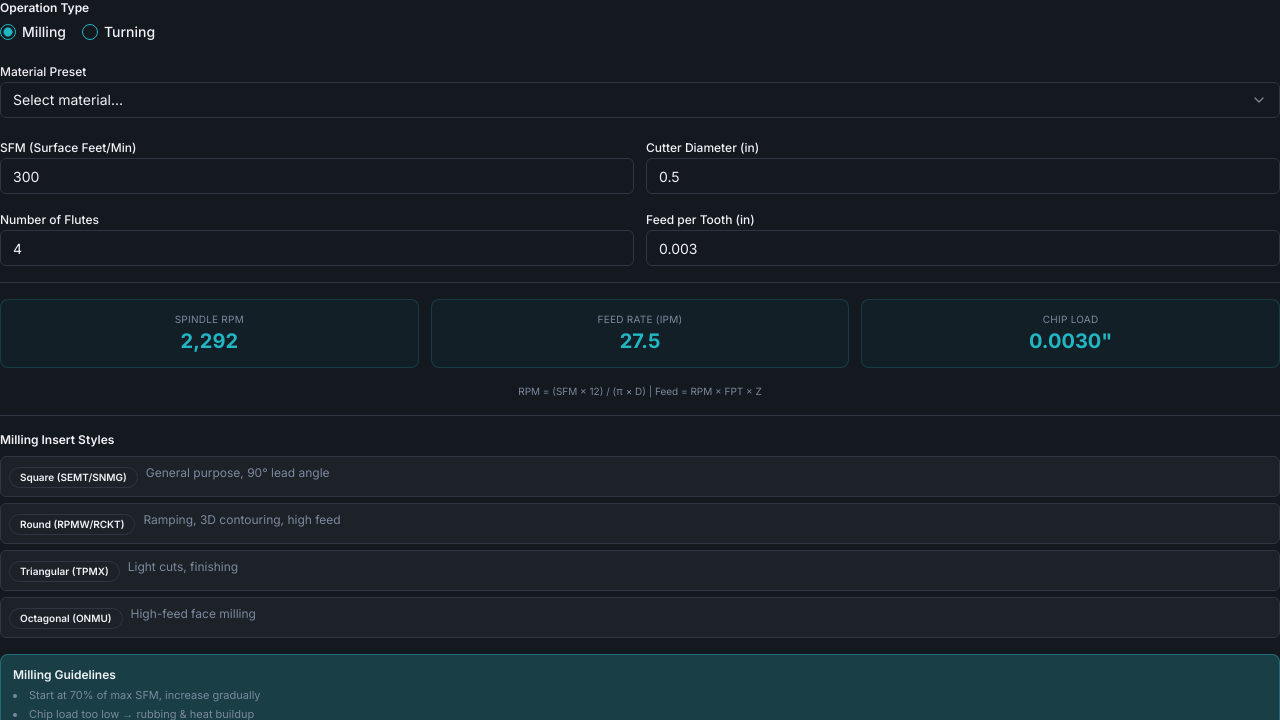
it: SfmCalculator › renders correct turning MRR using the shared turning formula
Click the radio button named "Turning" next to "Turning" at (90, 32), box [82,24,98,40]
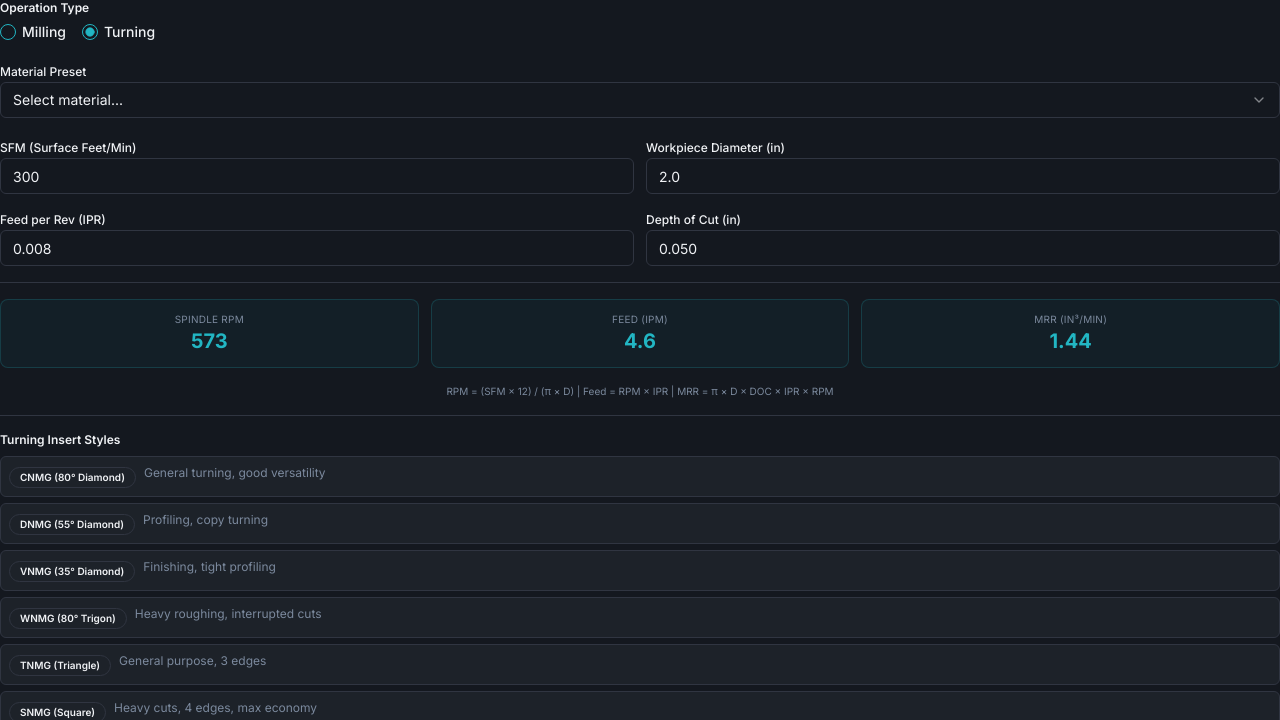
Expected: the text "1.44" is shown, [1050,329,1092,353]
